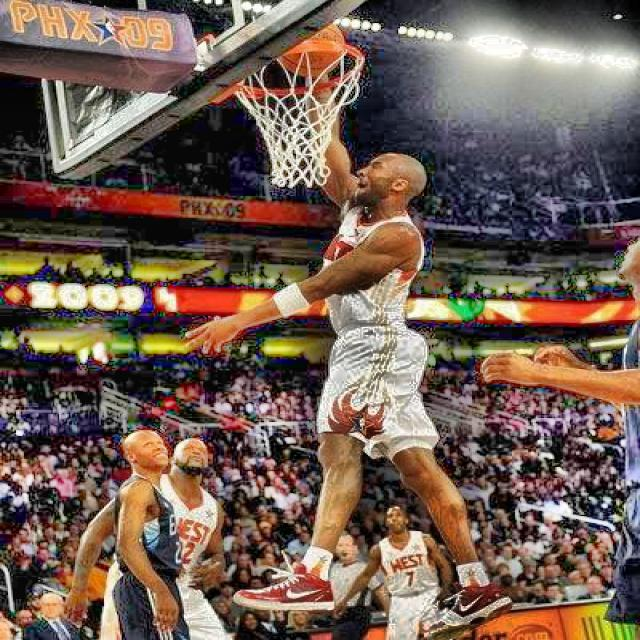rim: (231, 40, 367, 186)
